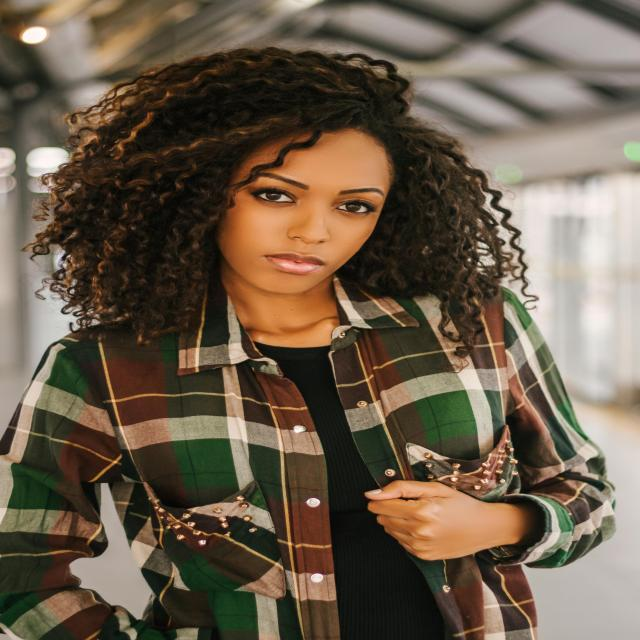human: (5, 49, 640, 640)
